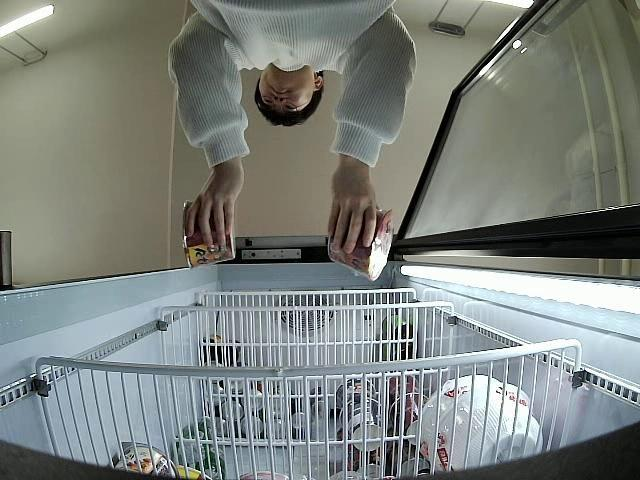05_nuguri_L: (328, 202, 397, 286), (180, 198, 237, 272)
